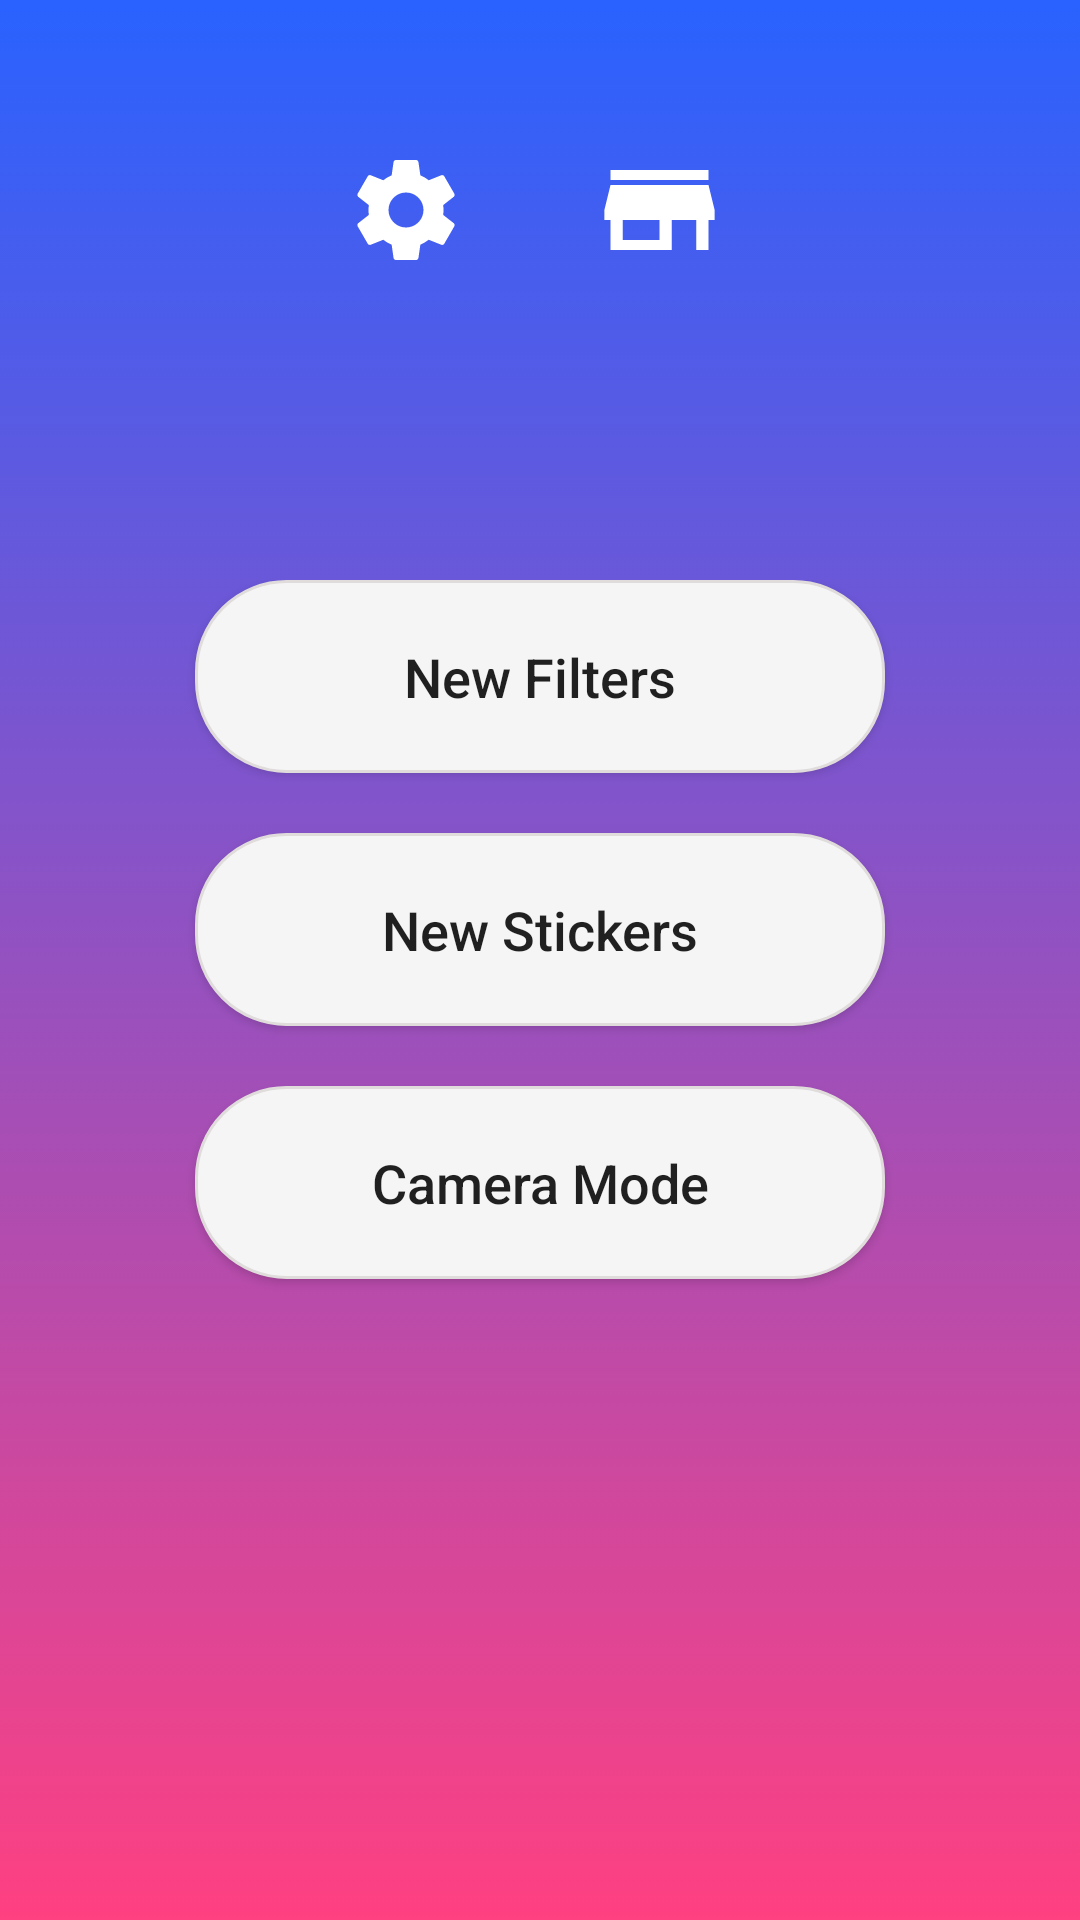

Screen size 1080*1920. Icon name, then its center in pixels as point (x, y):
settings: point (406, 210)
store: point (659, 210)
